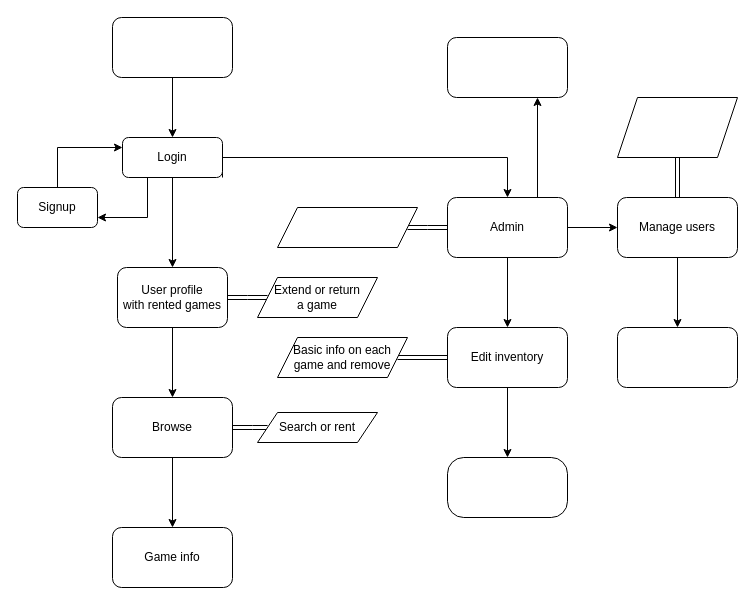
Image size: 755x605. Some labels were removed from this diagram. The shapes that lost their labels are listed below. From the top down, each one's centre as x and y in pixels, then its label:
(172,47): Enter IP
(507,67): View transactions
(677,127): Info on each user and remove user
(347,227): Number of game and users
(677,357): Edit user
(507,487): Add/edit game
